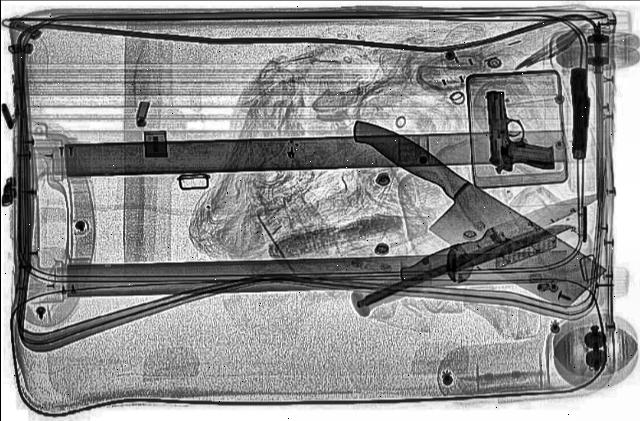Gun: (479, 88, 556, 174), (570, 69, 590, 159)
Knife: (302, 116, 626, 312), (393, 186, 617, 288), (354, 220, 576, 308)
